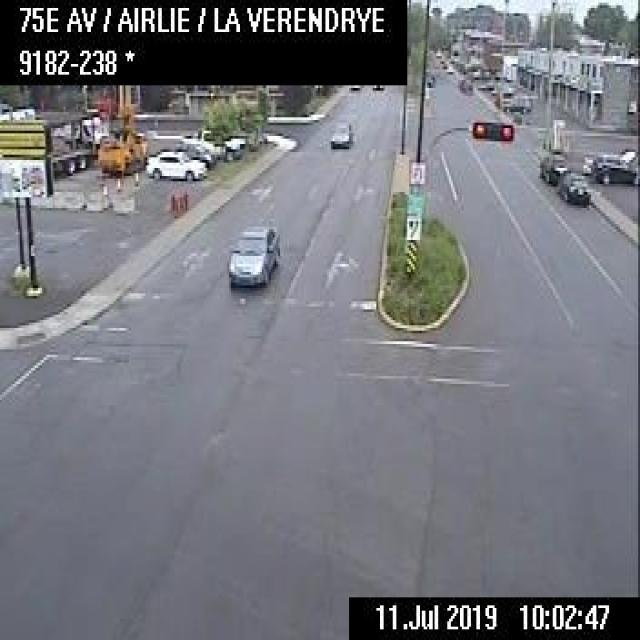construction: (95, 82, 147, 174), (172, 194, 178, 214), (178, 190, 184, 210)
vehicle: (47, 106, 106, 173), (228, 221, 276, 283), (183, 127, 244, 160), (145, 148, 206, 180), (590, 152, 638, 183), (556, 172, 588, 202), (536, 152, 568, 182), (327, 120, 351, 146), (500, 96, 530, 114), (456, 74, 471, 90)
